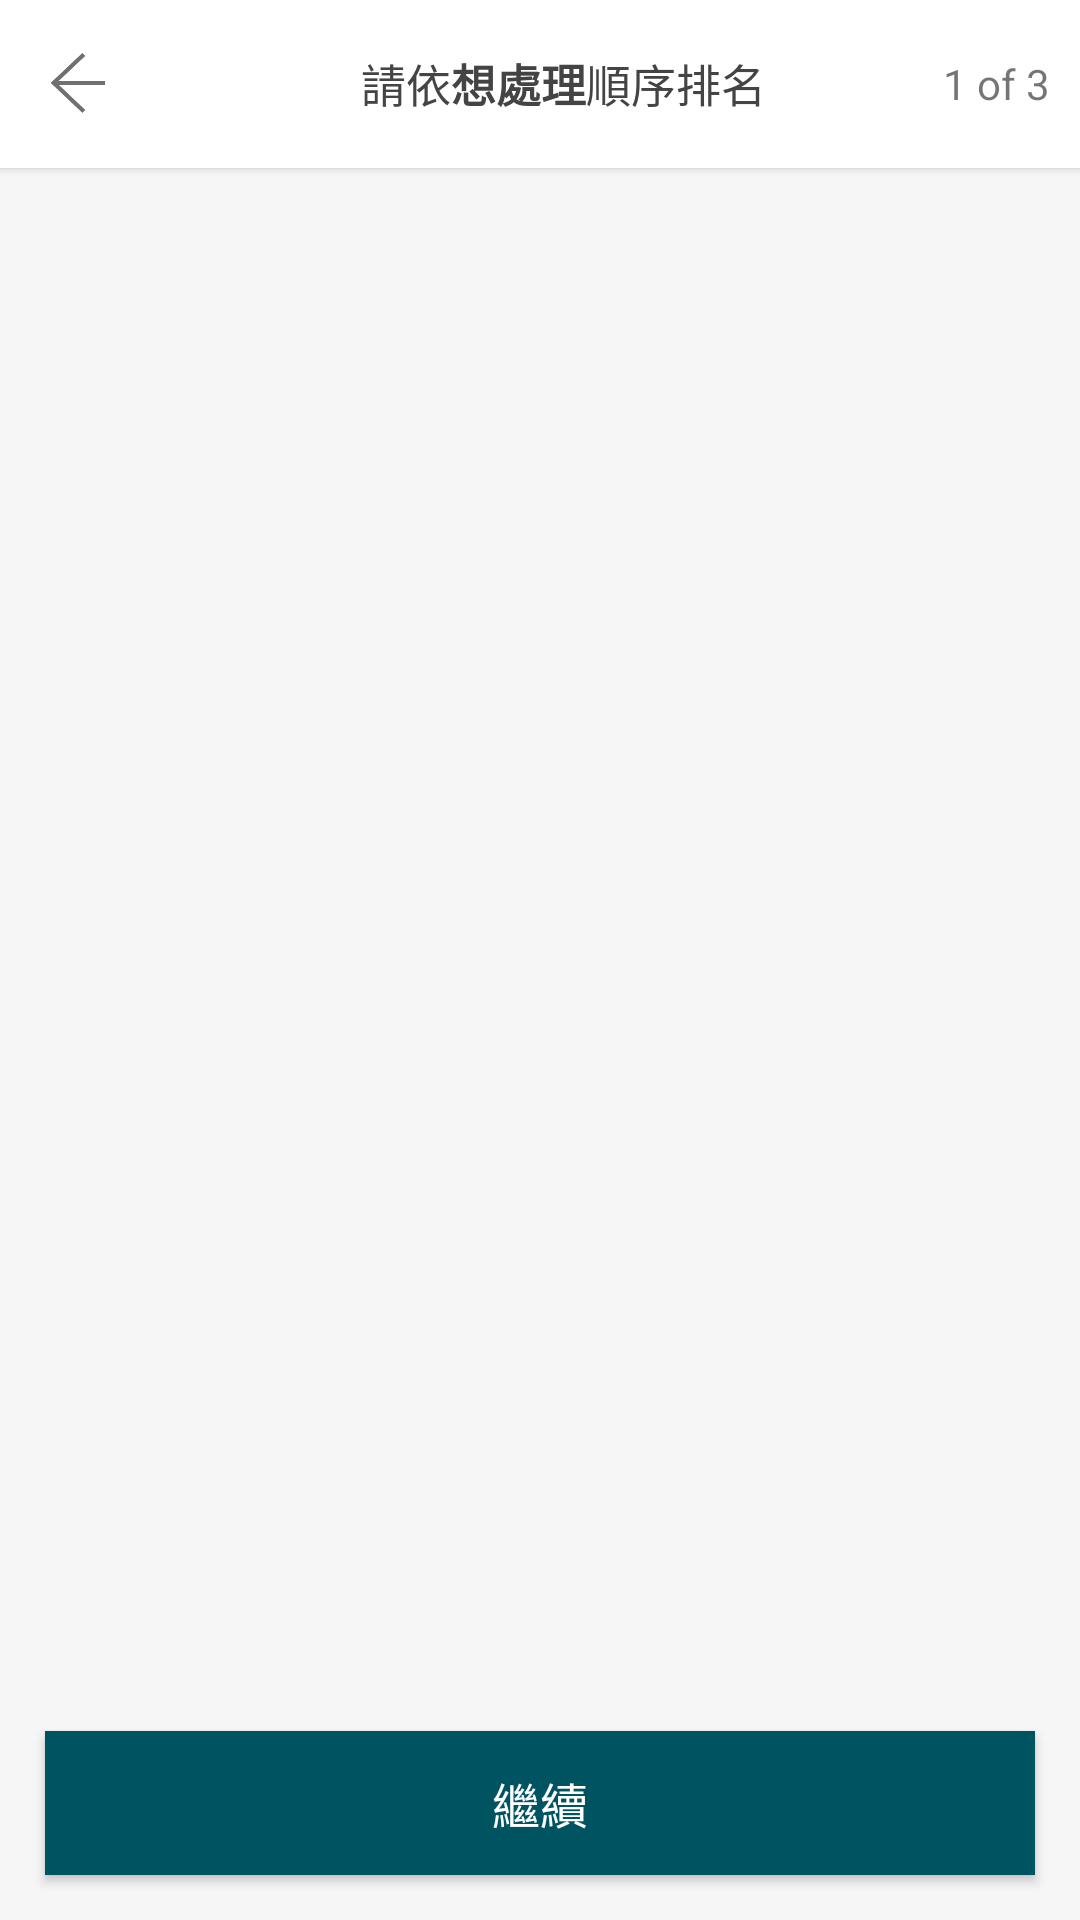

Locate icon controls on the screen. Image size 1080w x 1920h, boxes as Rect(x1, y1, x2, y2).
back: Rect(51, 53, 105, 113)
